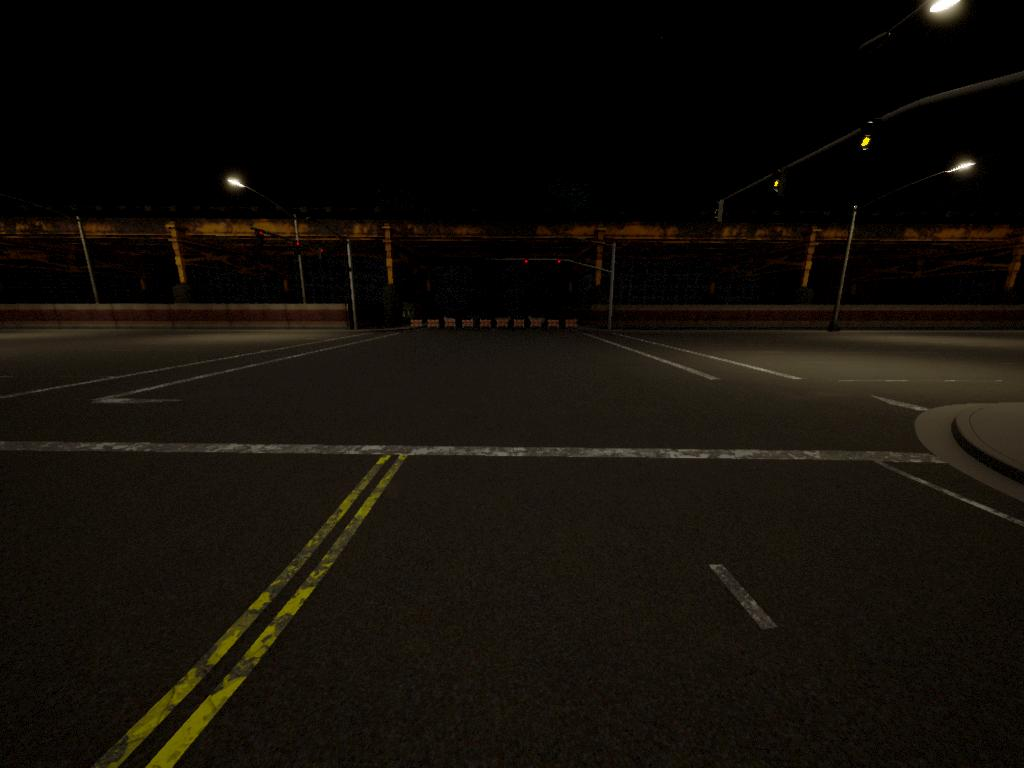traffic_light: (861, 125, 883, 153), (714, 199, 727, 227), (772, 170, 784, 197), (255, 228, 265, 246), (294, 241, 302, 257), (318, 247, 325, 258), (556, 258, 563, 267), (524, 258, 530, 266)
